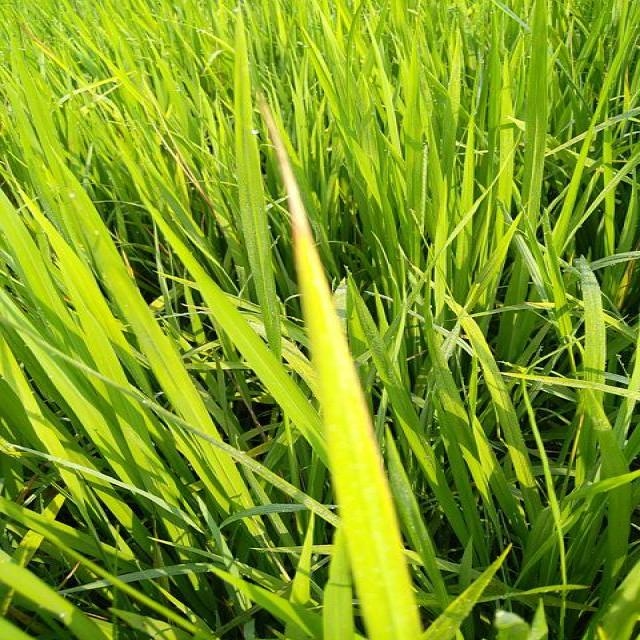Leaf Streak: (260, 101, 345, 352)
